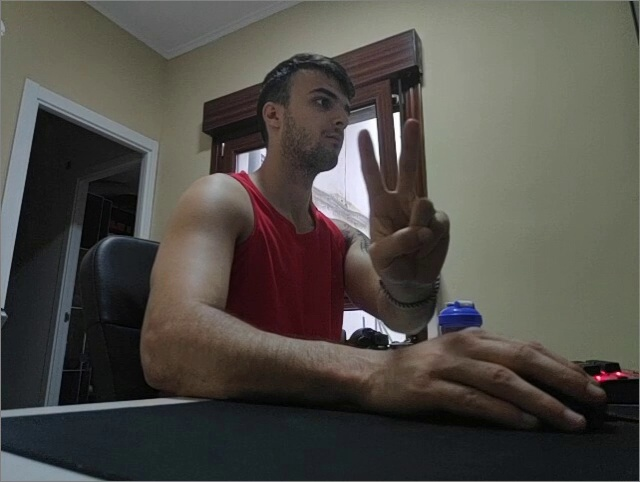Peace: (355, 117, 451, 292)
